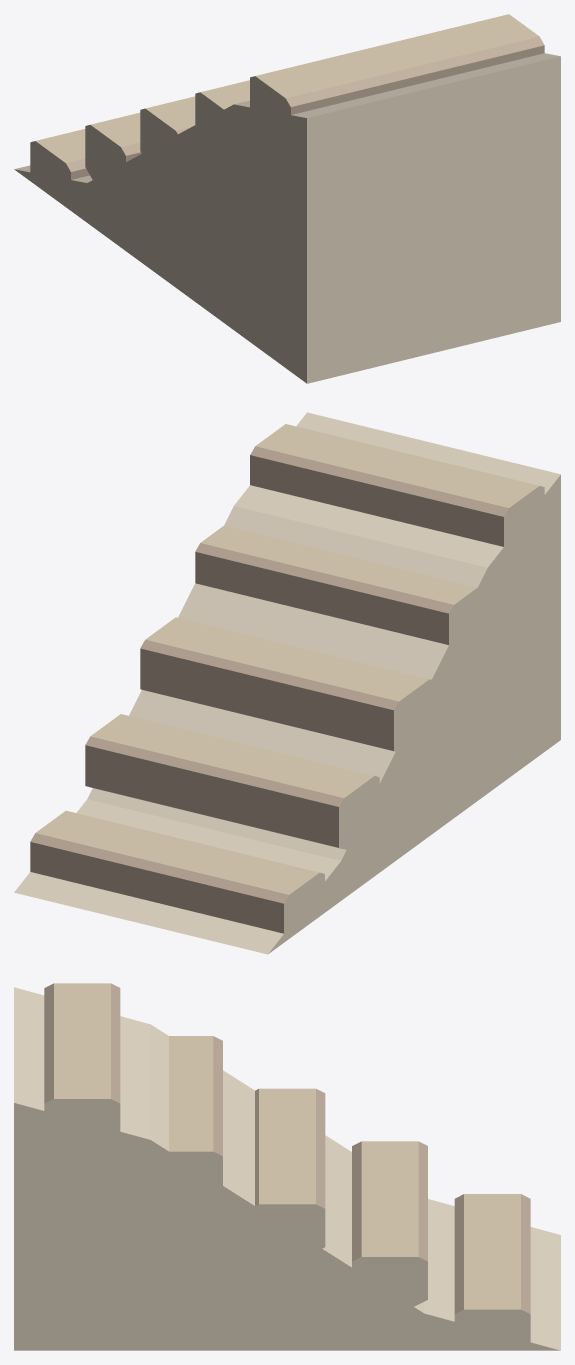
File: Path_Hill_Sharp_Center.glb
3 renders of one model, top to bottom at view 1: azimuth 30°, elevation 25°; view 2: azimuth 150°, elevation 25°; view 3: azimuth 270°, elevation 25°, orthographic. The views are drawn at different scales.
Visible parts, largest first — view 1: object1; view 2: object1; view 3: object1.
Part boxes in pixels (box(x1,y1,x2,y2)): object1: box(14, 14, 560, 383); object1: box(14, 412, 560, 954); object1: box(14, 983, 560, 1350).
Size of the model in its own units: 1 by 1.02 by 2.
